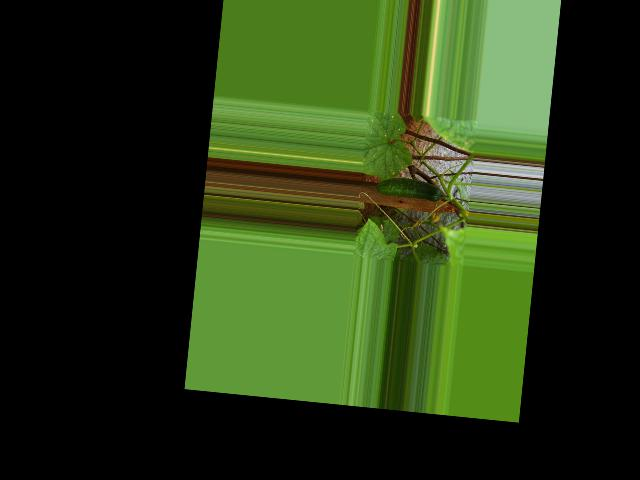cucumber: (375, 175, 443, 202)
